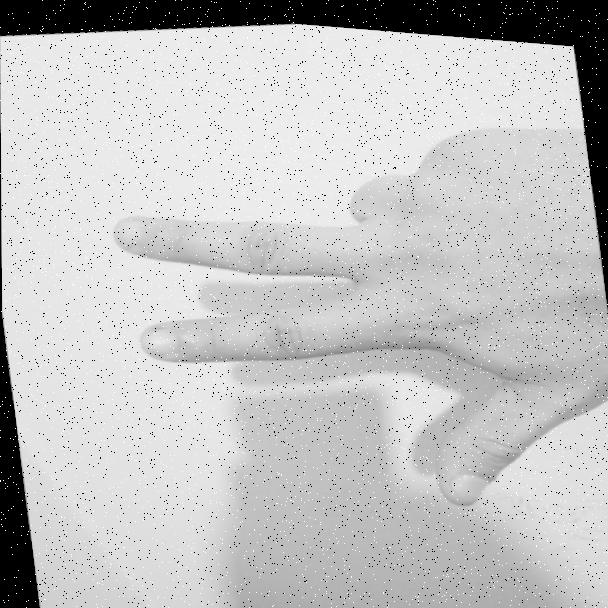three: (55, 66, 608, 556)
